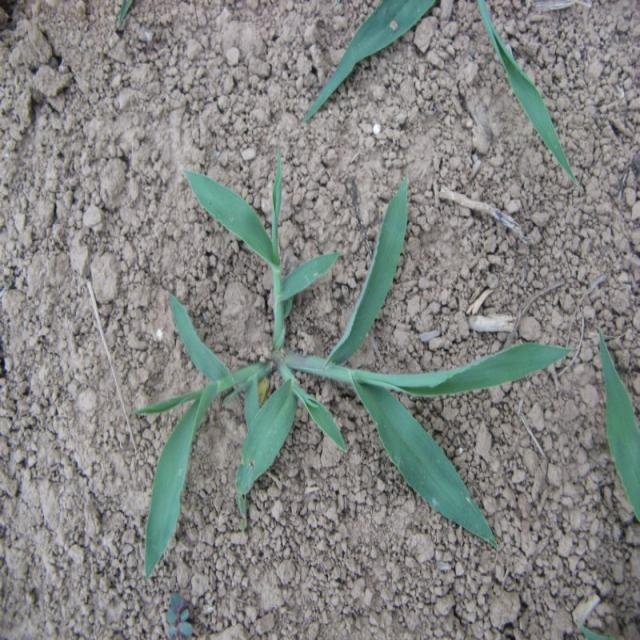bg: (141, 164, 570, 575)
